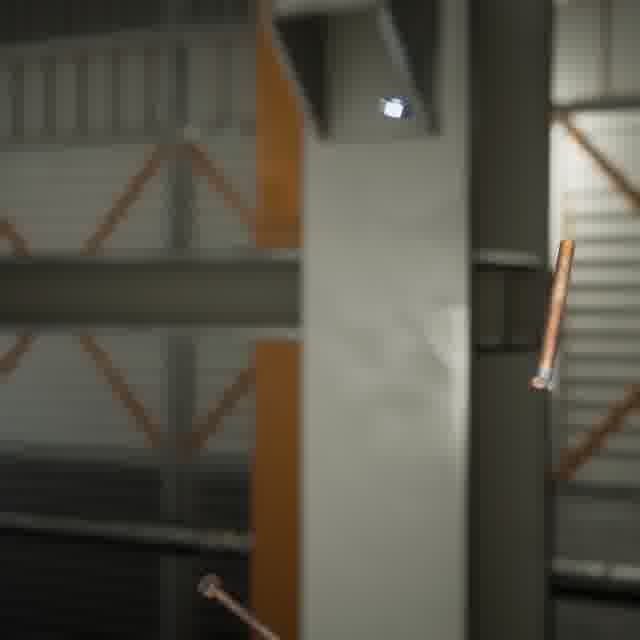bolt: (524, 234, 579, 394), (192, 568, 286, 640)
nut: (373, 92, 416, 122)
